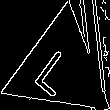L_NE: (33, 39, 85, 97)
